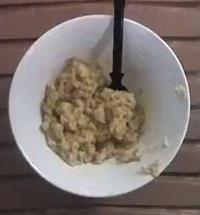oatmeal: (40, 57, 144, 164)
